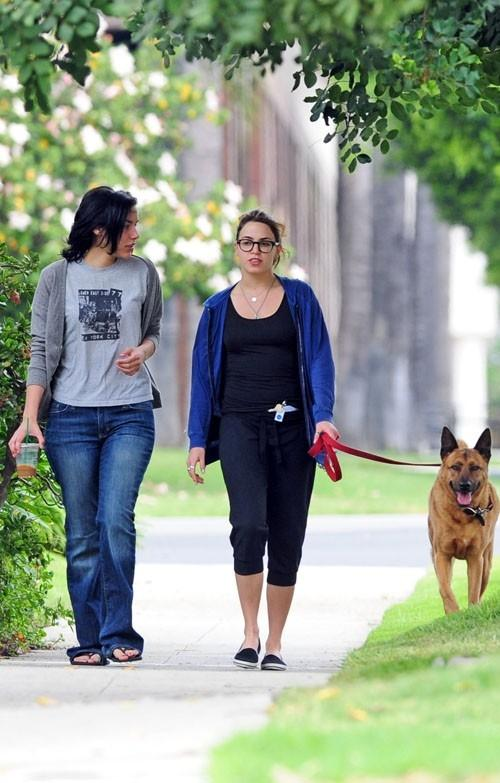person: (188, 215, 339, 670)
